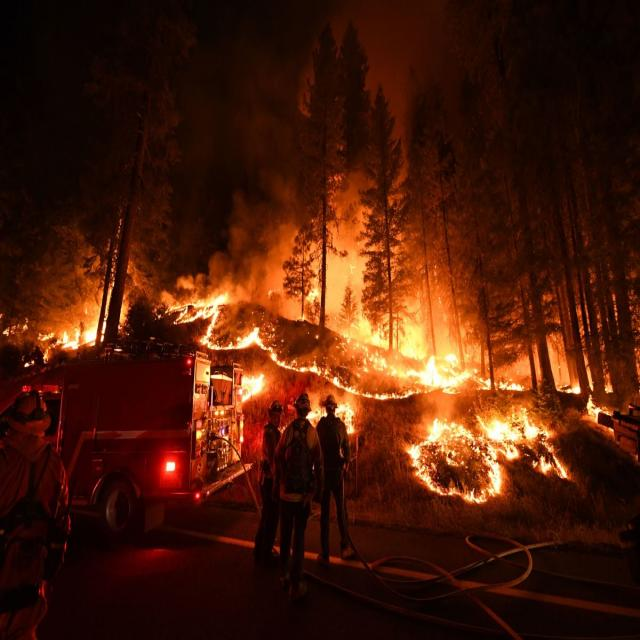Fire: (466, 393, 587, 489), (350, 335, 511, 401), (405, 419, 503, 506), (38, 288, 126, 365), (155, 281, 262, 334), (278, 362, 367, 403), (206, 331, 270, 355), (241, 374, 267, 403)
